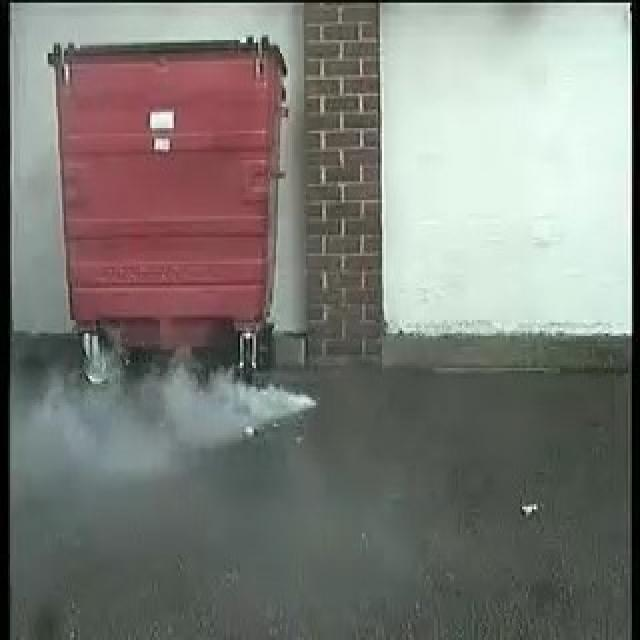smoke: (32, 356, 314, 462)
